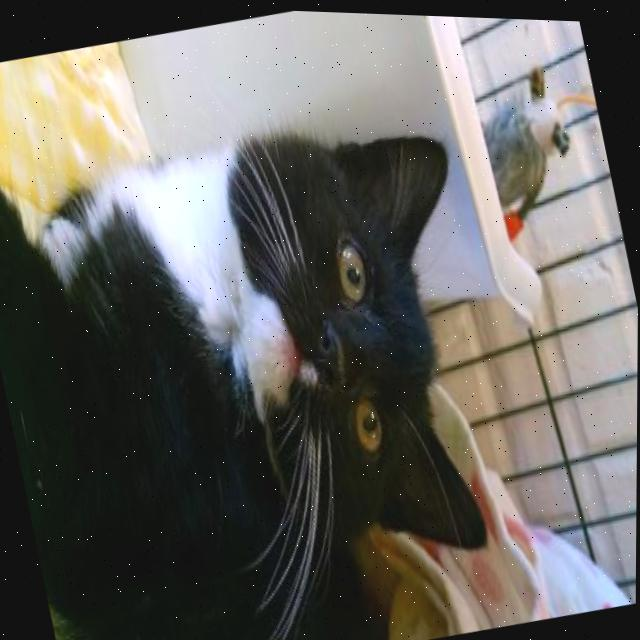Tuxedo: (0, 0, 549, 640)
